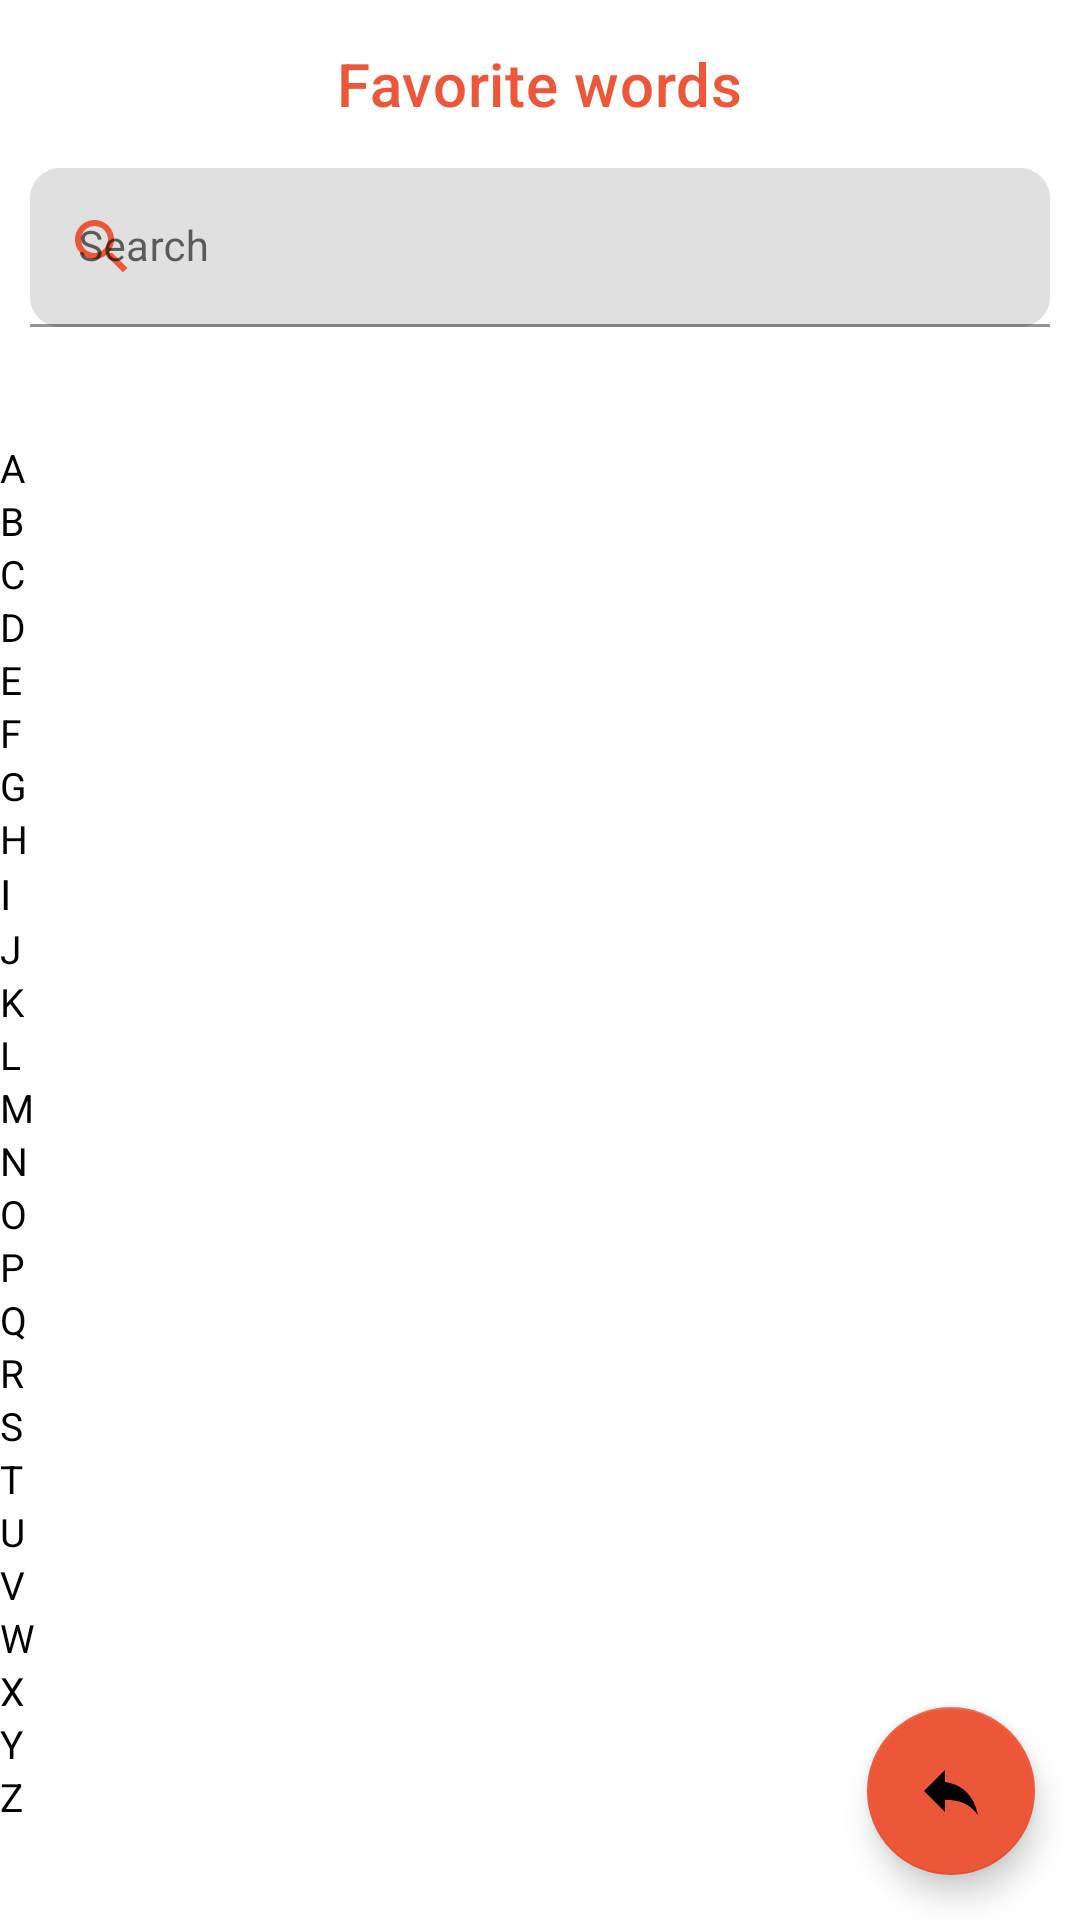

Screen size 1080 x 1920. Icon name, then its center in pixels as (x,y):
back: (951,1791)
